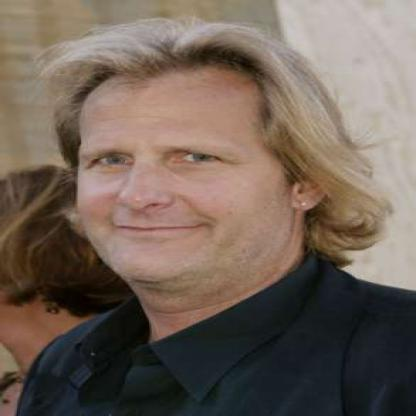face: (55, 40, 298, 293)
